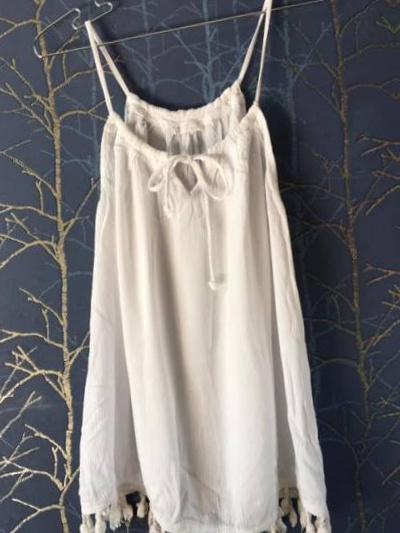Dress: (39, 10, 353, 533)
